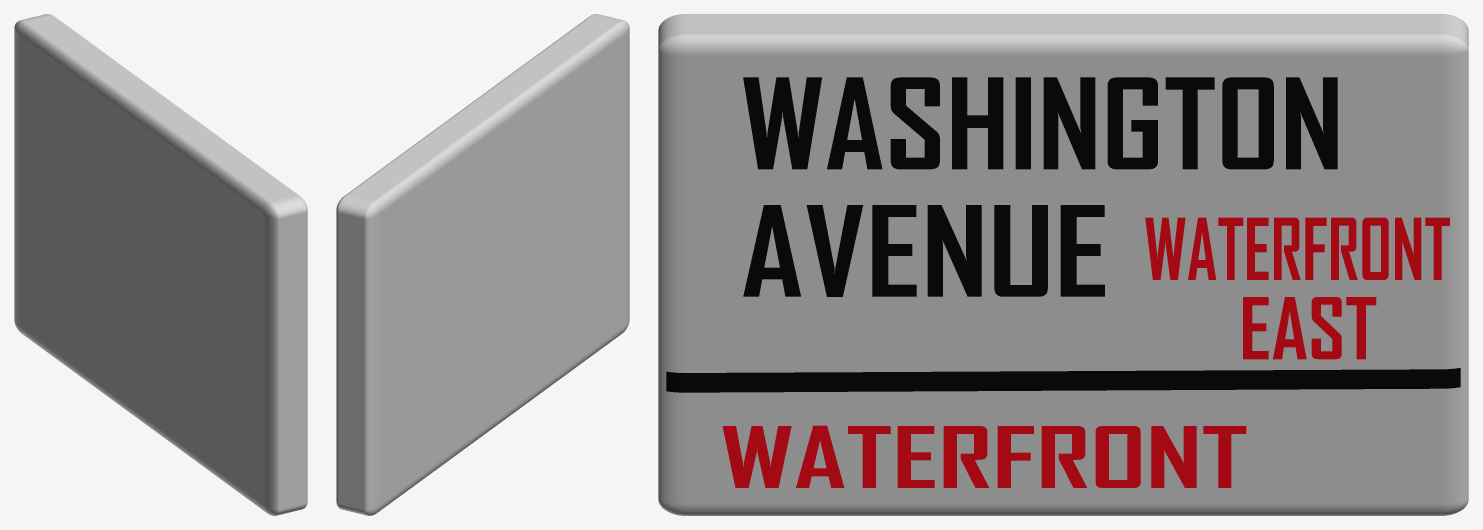
Rendered from uk_styled_street_sign_53.fbx.
3 renders of one model, left to right at view 1: azimuth 30°, elevation 25°; view 2: azimuth 150°, elevation 25°; view 3: azimuth 270°, elevation 25°, orthographic. The views are drawn at different scales.
Parts seen in each view (by area): view 1: Cube; view 2: Cube; view 3: Cube, Text, Text.001, Text.002, Text.003, Text.004.
Part boxes in pixels (left/top/right/bottom): Cube: left=14, top=14, right=307, bottom=515; Cube: left=336, top=14, right=629, bottom=515; Cube: left=658, top=14, right=1468, bottom=515; Text: left=743, top=77, right=1337, bottom=169; Text.001: left=743, top=205, right=1104, bottom=296; Text.002: left=722, top=425, right=1246, bottom=487; Text.003: left=1145, top=217, right=1449, bottom=279; Text.004: left=1243, top=297, right=1376, bottom=359.
Bounding box in the file's own units: 1.63 × 11.91 × 18.18.
